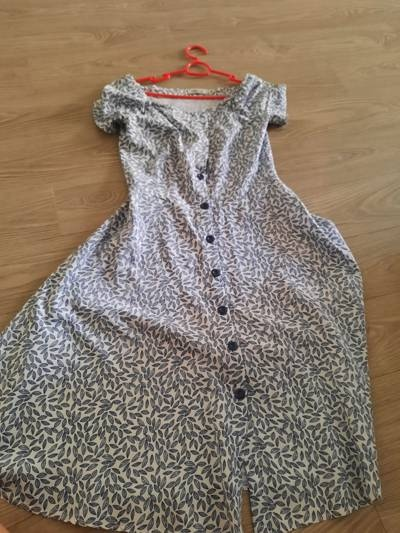Dress: (4, 48, 393, 521)
